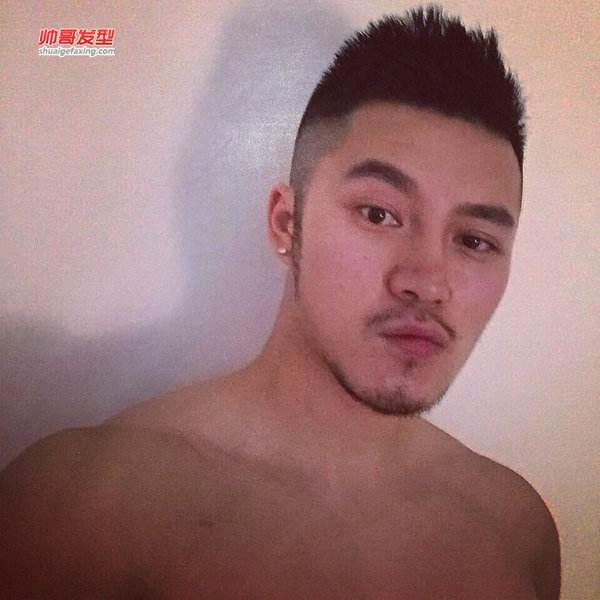person: (177, 49, 539, 584)
